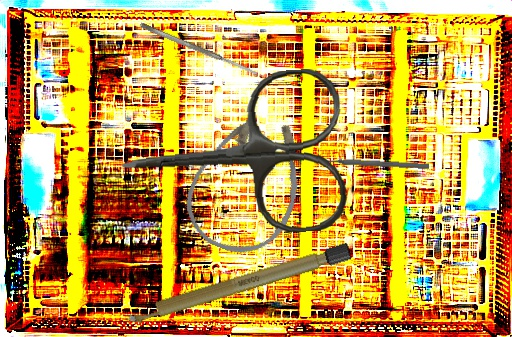Cannula: (173, 91, 325, 268)
Iris Scissors: (115, 66, 349, 245)
Pusher: (311, 155, 430, 171)
Scalpel Handle: (120, 241, 354, 329)
Spatula Surgical: (138, 21, 260, 78)
